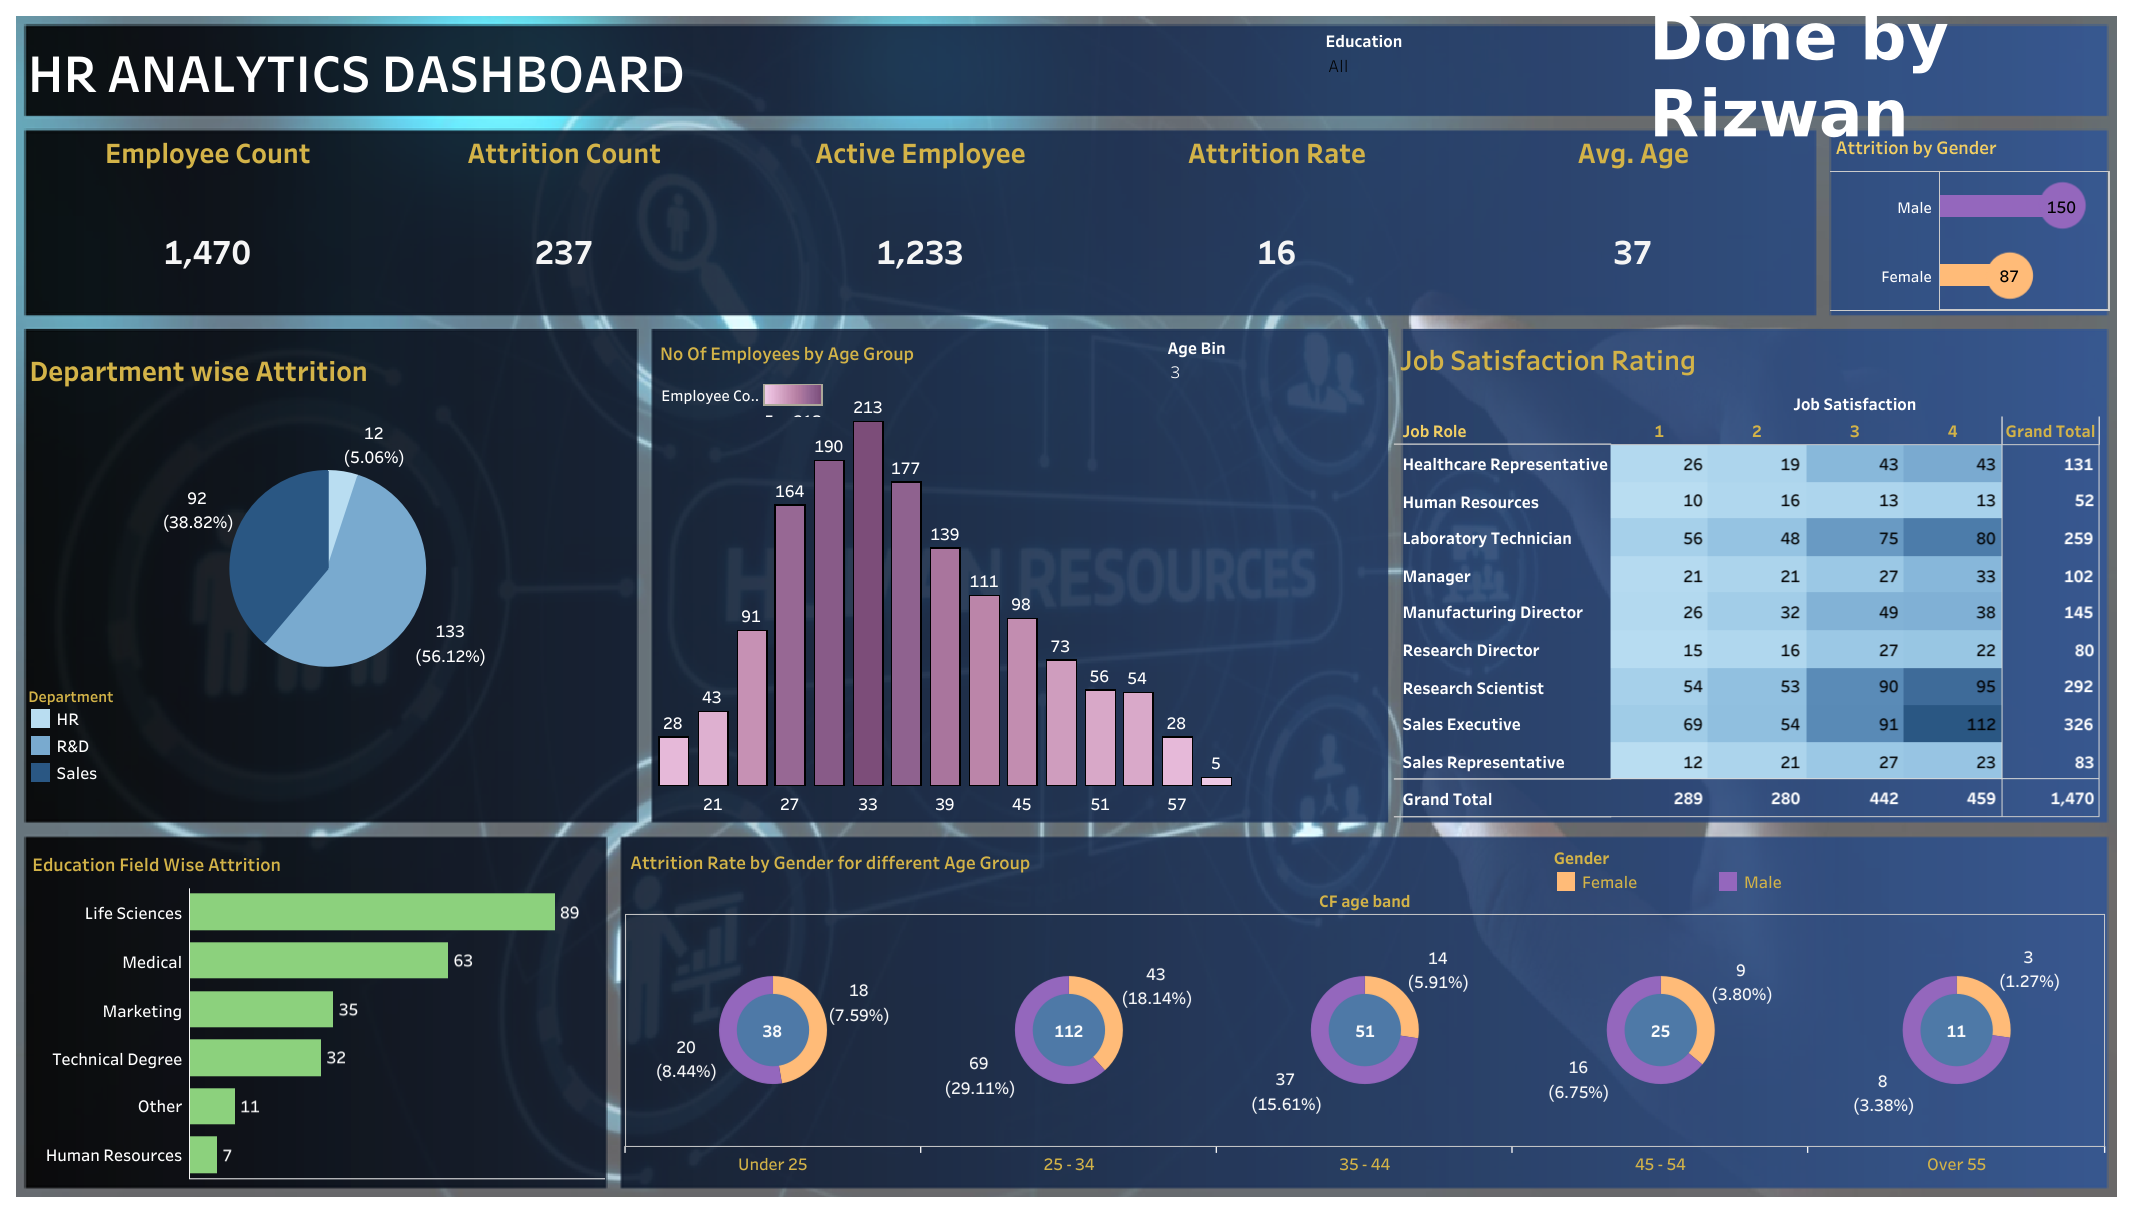

What the dashboard file says about the page in this screenshot:
{"tool":"tableau","page":{"name":"HR Analytics Dashboard","canvas":[1580,900],"ordinal":1},"visuals":[{"type":"image","param":"Image/HR background.pptx.png","box":[8,8,1564,884]},{"type":"text","box":[18,19,950,67]},{"type":"filter","title":"Department Wise Attrition","param":"[federated.1xsfu2r0oj1da61606ywt0rlv49w].[none:Education:nk]","box":[982,20,223,194]},{"type":"text","box":[1219,29,336,53]},{"type":"worksheet","title":"attrition by gender","mark":"Automatic","rows":["Gender"],"cols":["Calculation_1244119458025263104","Calculation_1244119458025263104"],"box":[1356,93,207,138]},{"type":"worksheet","title":"KPI","mark":"Text","box":[22,99,1320,132]},{"type":"worksheet","title":"No Of Employees by Age Group","mark":"Automatic","rows":["Employee Count"],"cols":["Age (bin)"],"box":[485,246,431,358]},{"type":"worksheet","title":"Job Satisfaction Rating","mark":"Square","rows":["Job Role"],"cols":["Job Satisfaction"],"box":[1033,246,523,360]},{"type":"parameter","param":"[Parameters].[Parameter 1]","box":[865,247,160,75]},{"type":"worksheet","title":"Department Wise Attrition","mark":"Pie","box":[18,254,450,291]},{"type":"legend","title":"No Of Employees by Age Group","param":"[federated.1xsfu2r0oj1da61606ywt0rlv49w].[sum:Employee Count:qk]","box":[490,281,124,28]},{"type":"legend","title":"Department Wise Attrition","param":"[federated.1xsfu2r0oj1da61606ywt0rlv49w].[none:Department:nk]","box":[20,506,103,101]},{"type":"worksheet","title":"Attrition Rate by Gender for different Age Group","mark":"Pie","rows":["Calculation_1244119458290475016","Calculation_1244119458290475016"],"cols":["CF_age band"],"box":[463,623,1097,249]},{"type":"worksheet","title":"Education Field Wise Attrition","mark":"Automatic","rows":["Education Field"],"cols":["Calculation_1244119458025263104"],"box":[20,624,428,249]},{"type":"legend","title":"Attrition Rate by Gender for different Age Group","param":"[federated.1xsfu2r0oj1da61606ywt0rlv49w].[none:Gender:nk]","box":[1150,624,406,43]}]}

Visuals, with their boxes in screenshot pixels (x1, y1, x2, y2), scaled from the page's 1580x900 canvas onto the 2132x1214 screenshot:
image: 11/11/2121/1203
text: 24/26/1306/116
"Department Wise Attrition" filter: 1325/27/1626/289
text: 1645/39/2098/111
"attrition by gender" worksheet: 1830/125/2109/312
"KPI" worksheet (Text marks): 30/134/1811/312
"No Of Employees by Age Group" worksheet: 654/332/1236/815
"Job Satisfaction Rating" worksheet (Square marks): 1394/332/2100/817
parameter: 1167/333/1383/434
"Department Wise Attrition" worksheet (Pie marks): 24/343/632/735
"No Of Employees by Age Group" legend: 661/379/829/417
"Department Wise Attrition" legend: 27/683/166/819
"Attrition Rate by Gender for different Age Group" worksheet (Pie marks): 625/840/2105/1176
"Education Field Wise Attrition" worksheet: 27/842/605/1178
"Attrition Rate by Gender for different Age Group" legend: 1552/842/2100/900
